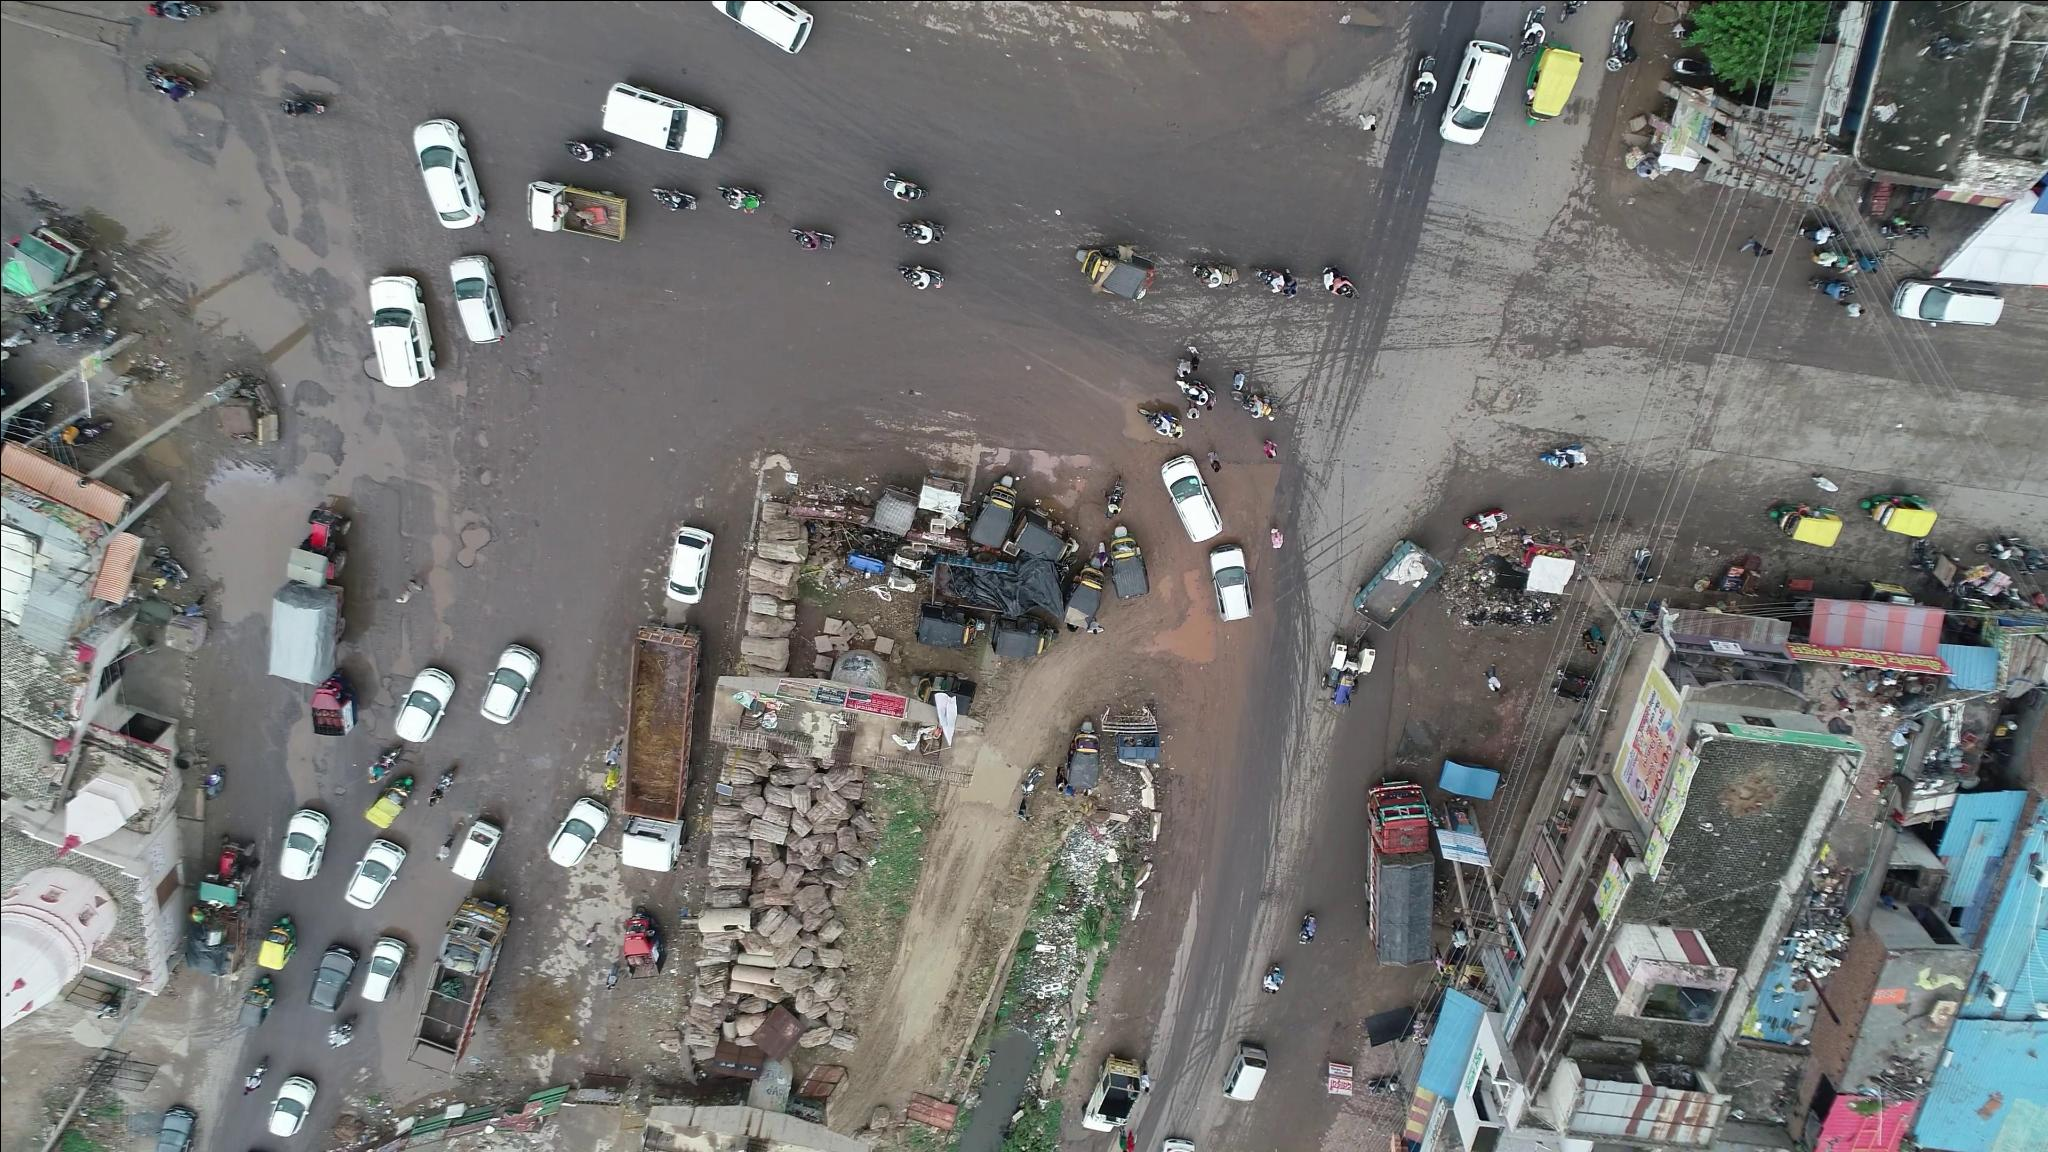Potholes: (450, 395, 530, 608), (311, 771, 361, 805)
